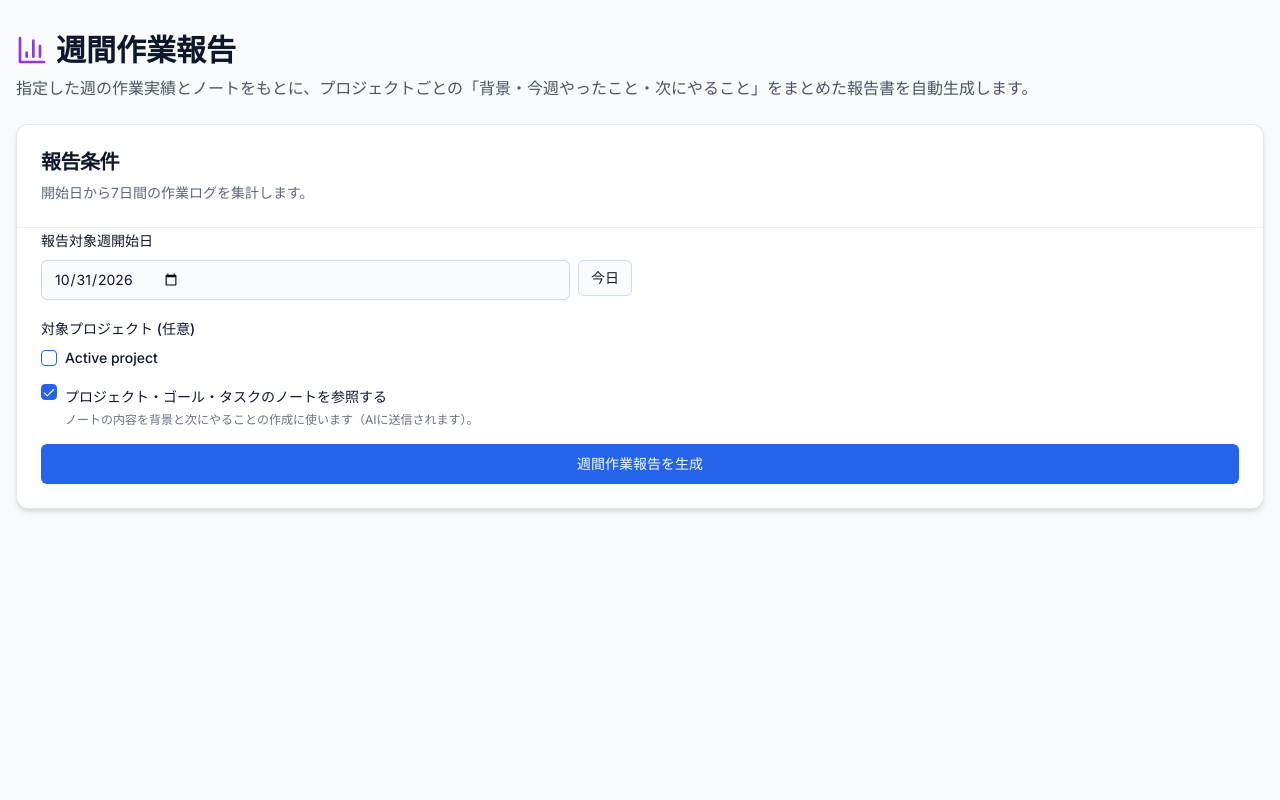
Scenario: weekly report page › can generate a report without using notes
Click the checkbox named "プロジェクト・ゴール・タスクのノートを参照する" next to "プロジェクト・ゴール・タスクのノートを参照する": (49, 392) [41,384,57,400]
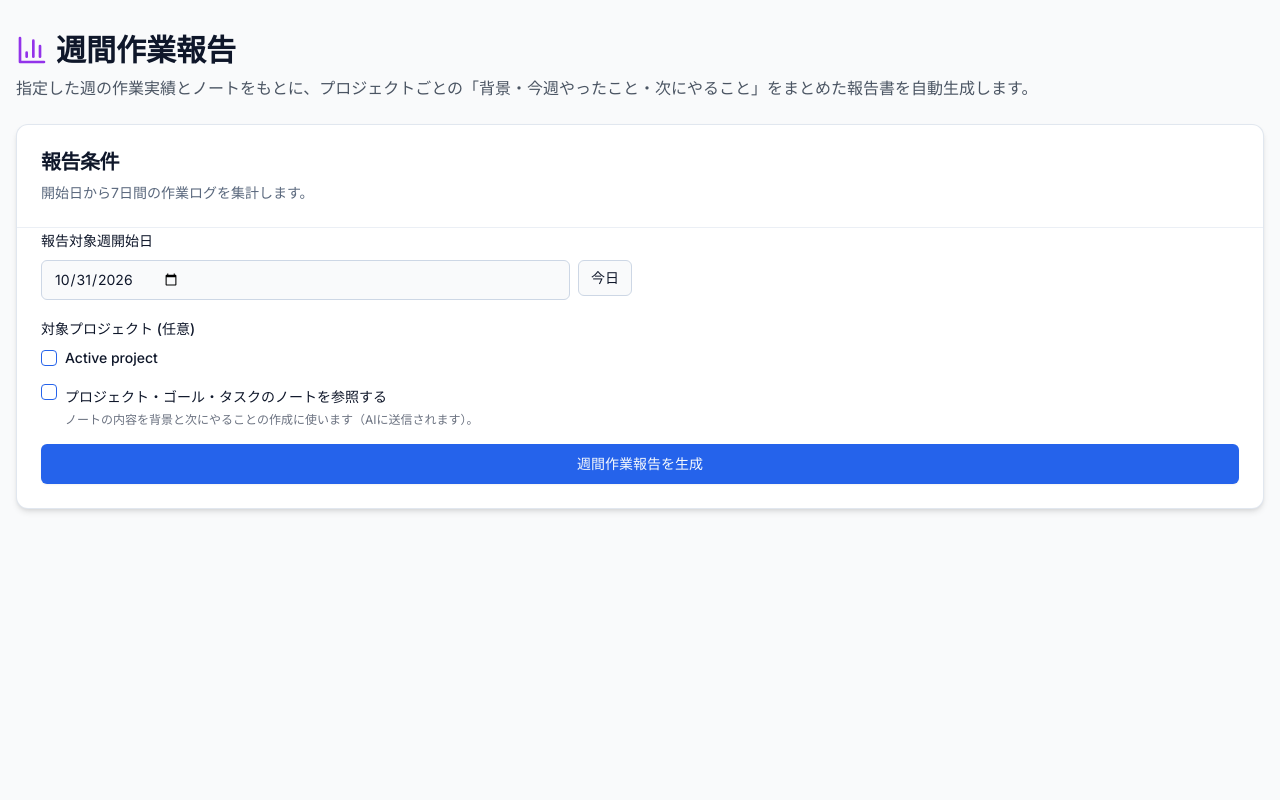
Click the button "週間作業報告を生成": (640, 464) [41,444,1239,484]
(page scrolled)
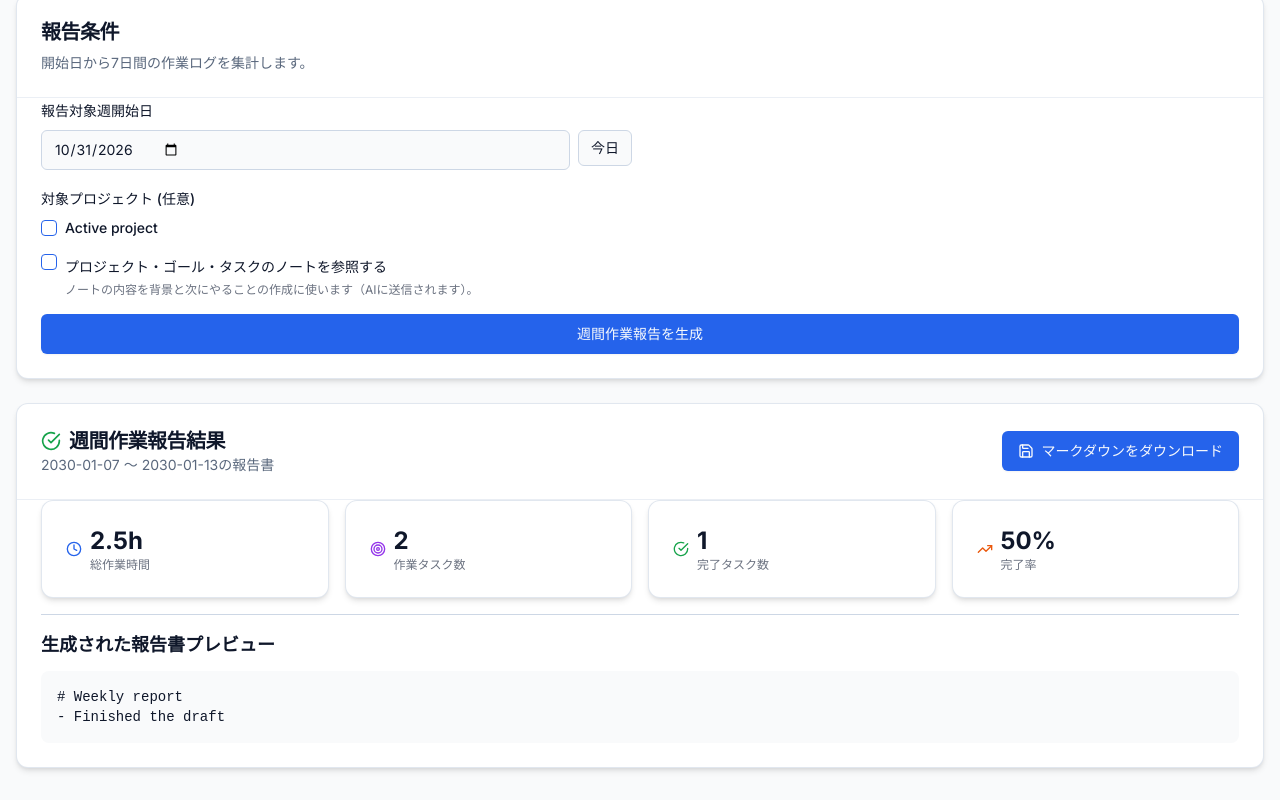
Now the text "# Weekly report - Finished the draft" is shown, box [57,689,225,725]
